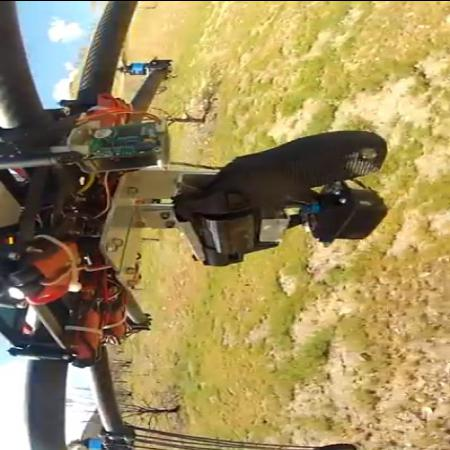Pistol: (189, 129, 395, 264)
